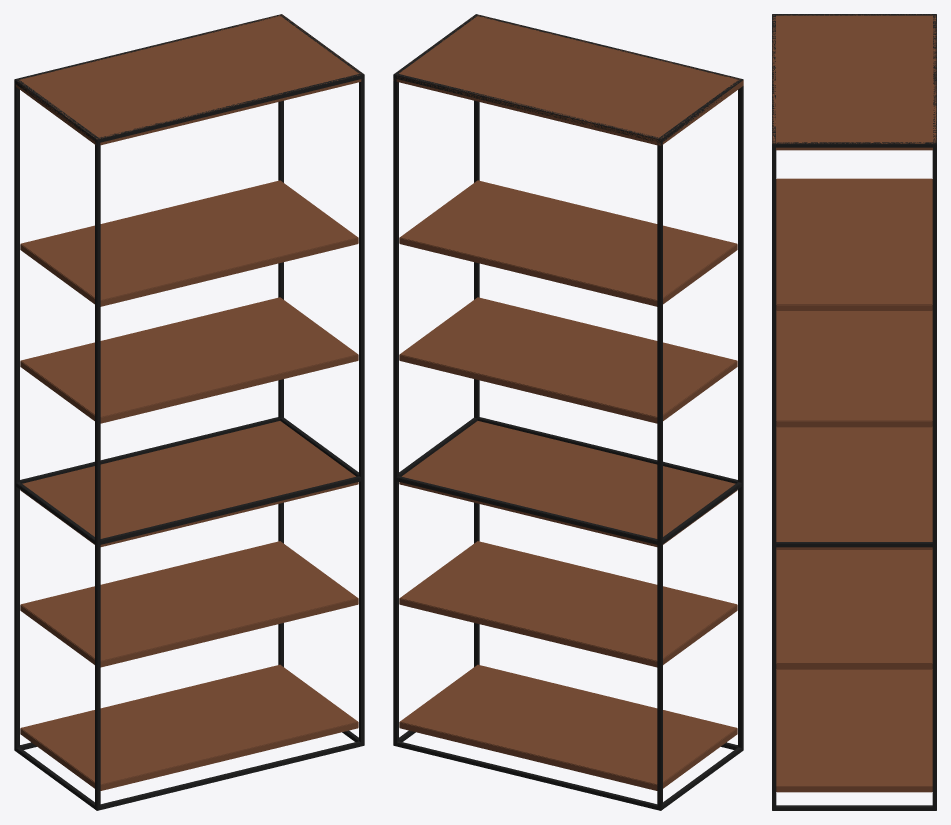
The picture shows the model from 3 angles, left to right: view 1: azimuth 30°, elevation 25°; view 2: azimuth 150°, elevation 25°; view 3: azimuth 270°, elevation 25°; orthographic projection.
Parts seen in each view (by area): view 1: poel-modular-cabinet; view 2: poel-modular-cabinet; view 3: poel-modular-cabinet.
Part boxes in pixels (left/top/right/bottom): poel-modular-cabinet: left=14, top=14, right=364, bottom=810; poel-modular-cabinet: left=393, top=14, right=743, bottom=810; poel-modular-cabinet: left=772, top=14, right=936, bottom=810.
Bounding box in the file's own units: 0.84 × 2.01 × 0.45.
